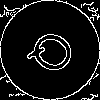Q: (25, 25, 86, 83)
